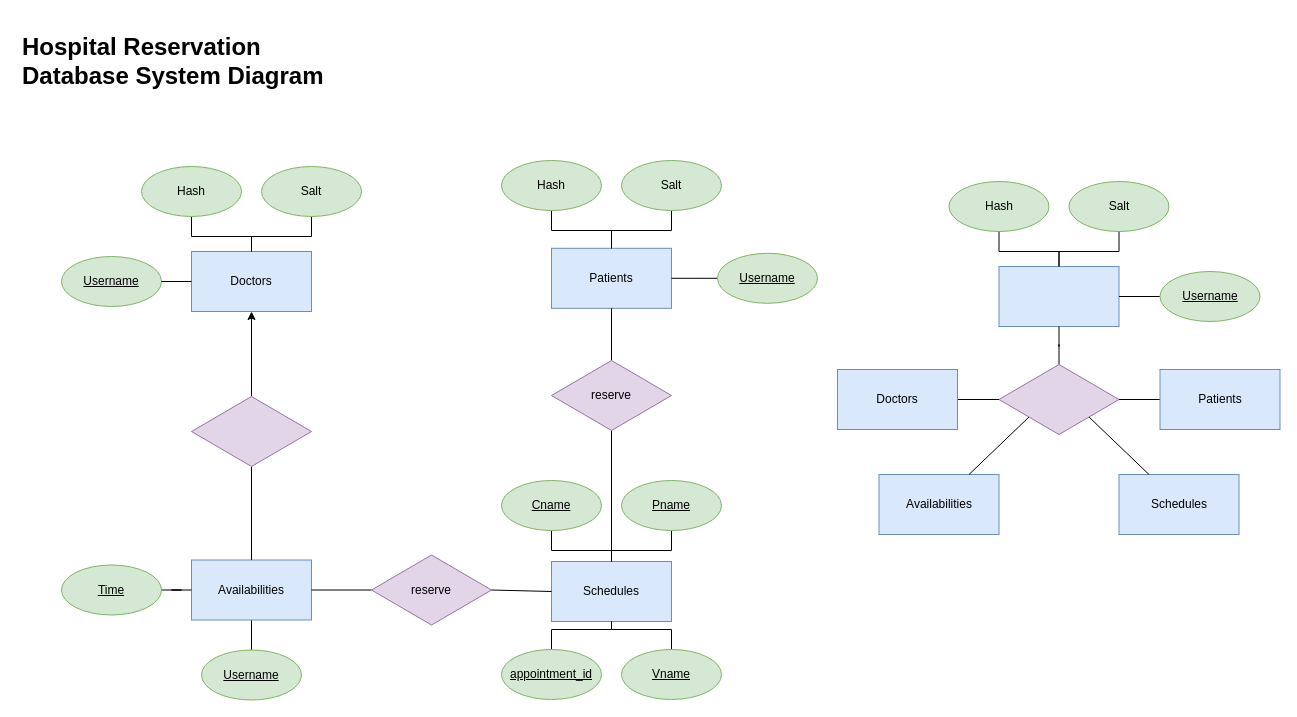
Some shapes in this 1297 by 717 pixel diagram are drawn without their labels. Here are the shapes that lost their labels. From the top down, the centre of each, then its label:
At pixel 1058 296: "Admins".
At pixel 1058 399: "manage".
At pixel 251 431: "have".
